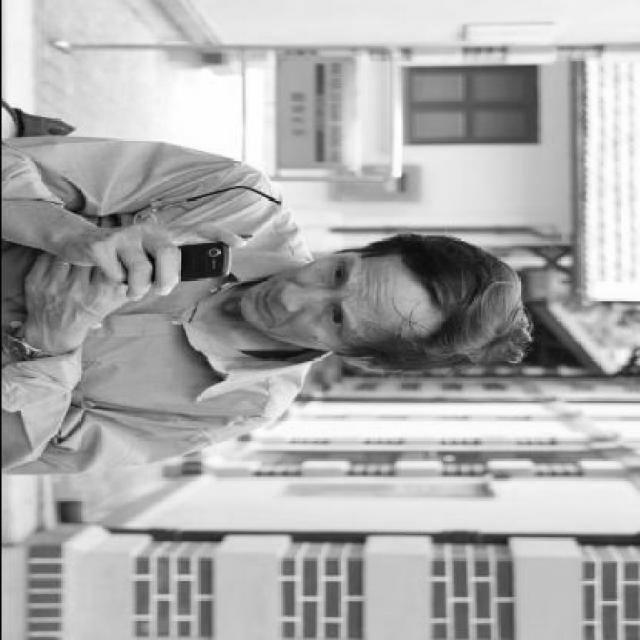fake: (119, 240, 233, 286)
